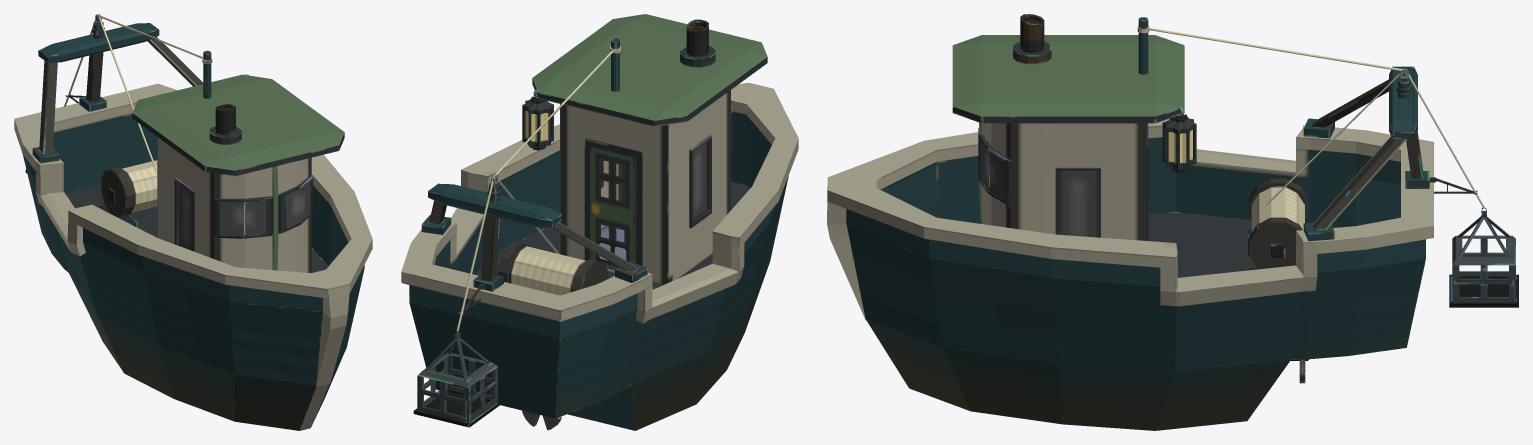
The model's file is Boat_1.fbx.
3 views of the same model, side by side, from view 1: azimuth 30°, elevation 25°; view 2: azimuth 150°, elevation 25°; view 3: azimuth 270°, elevation 25° (orthographic). The views are drawn at different scales.
Visible parts, largest first — view 1: Boat; view 2: Boat, Dredge, Frame_1, Frame; view 3: Boat, Dredge, Frame, Frame_1.
Boxes of the visible parts, x1,y1,x2,y2 form: Boat: [14, 14, 372, 430]; Boat: [401, 14, 798, 430]; Dredge: [413, 330, 501, 427]; Frame_1: [522, 89, 553, 150]; Frame: [525, 89, 550, 149]; Boat: [827, 14, 1485, 430]; Dredge: [1449, 207, 1518, 307]; Frame: [1162, 106, 1196, 172]; Frame_1: [1165, 106, 1193, 172].
Bounding box in the file's own units: 225 × 261 × 447.
Materials: 2 (2 with a texture image).
